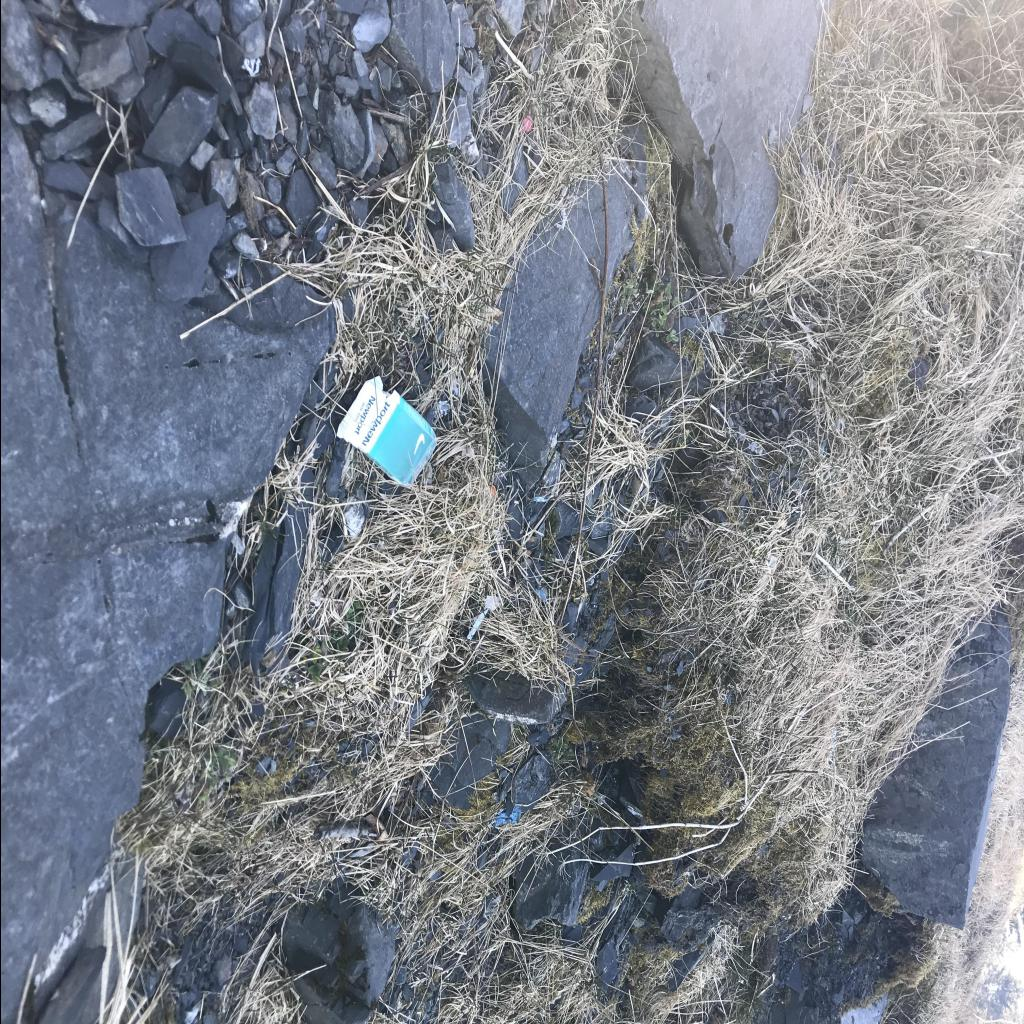Other carton: (335, 375, 435, 488)
Other plastic bottle: (520, 116, 529, 132)
Unlabeled litter: (466, 608, 488, 638), (494, 808, 520, 826), (484, 598, 500, 610), (534, 496, 546, 502)
